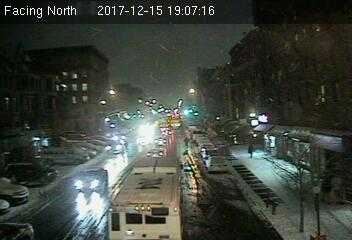bus: (107, 158, 187, 239)
car: (73, 167, 109, 189), (104, 136, 128, 153), (206, 157, 228, 170), (144, 148, 164, 160)
